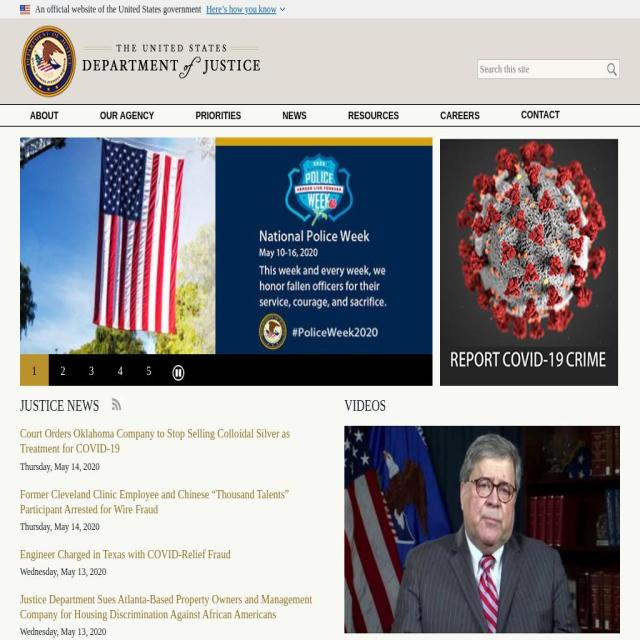button: (20, 24, 262, 104), (95, 107, 159, 126), (343, 107, 404, 126), (190, 107, 246, 126), (48, 354, 78, 388), (134, 354, 164, 388), (20, 354, 49, 388), (77, 354, 106, 388), (106, 354, 135, 388), (206, 3, 285, 15), (436, 107, 484, 126), (517, 107, 564, 125), (26, 107, 63, 126), (278, 107, 311, 126), (172, 365, 185, 383)
field: (478, 59, 620, 80), (607, 64, 617, 78)
heading: (20, 398, 314, 414), (344, 398, 620, 414)
image: (20, 137, 432, 355), (344, 426, 620, 633), (440, 138, 618, 386), (20, 24, 262, 100), (112, 398, 121, 412), (20, 4, 30, 14)
link: (20, 591, 312, 621), (20, 426, 290, 456), (20, 486, 289, 516), (20, 546, 231, 561), (344, 639, 594, 640)
text: (35, 3, 202, 15), (20, 564, 106, 578), (20, 624, 106, 638), (20, 459, 99, 473), (20, 519, 99, 533), (206, 3, 277, 15)
